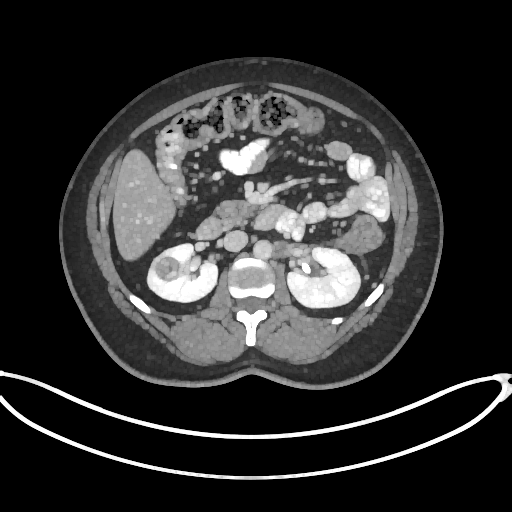Lesion: (151, 255, 184, 285)
